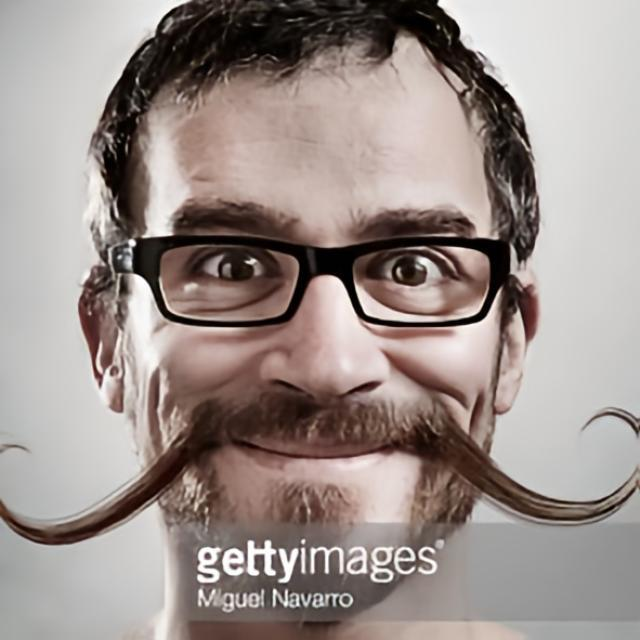happy: (128, 72, 498, 580)
